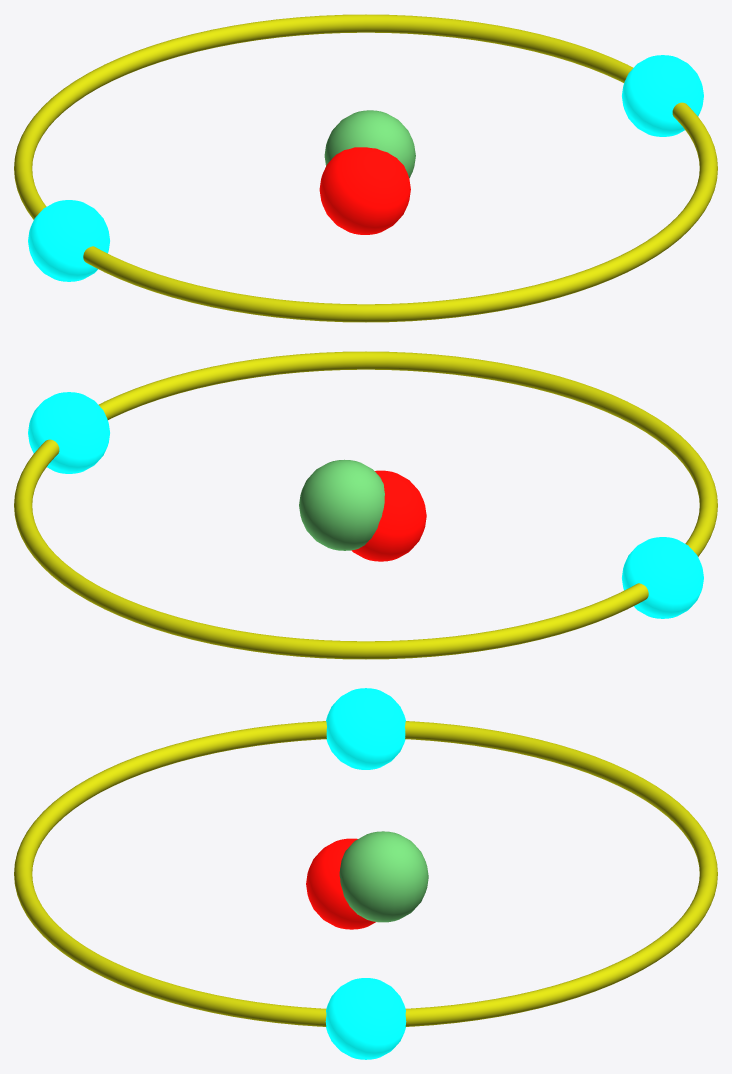
The model's file is atomo_2.glb.
3 renders of one model, top to bottom at view 1: azimuth 30°, elevation 25°; view 2: azimuth 150°, elevation 25°; view 3: azimuth 270°, elevation 25°, orthographic.
Parts seen in each view (by area): view 1: orbital_1.001, proton_1, electron_2, electron_1, neutron_1; view 2: orbital_1.001, neutron_1, electron_2, electron_1, proton_1; view 3: orbital_1.001, neutron_1, electron_1, electron_2, proton_1.
Boxes of the visible parts, x1,y1,x2,y2 form: orbital_1.001: [14, 14, 717, 322]; proton_1: [319, 147, 410, 234]; electron_2: [28, 200, 109, 281]; electron_1: [622, 55, 703, 136]; neutron_1: [324, 110, 415, 178]; orbital_1.001: [14, 351, 717, 659]; neutron_1: [299, 459, 384, 550]; electron_2: [622, 537, 703, 618]; electron_1: [28, 392, 109, 473]; proton_1: [351, 470, 426, 561]; orbital_1.001: [14, 721, 717, 1026]; neutron_1: [339, 831, 428, 922]; electron_1: [325, 978, 406, 1059]; electron_2: [326, 688, 405, 769]; proton_1: [306, 838, 375, 929].
Bounding box in the file's own units: 3.36 × 0.483 × 3.08.
